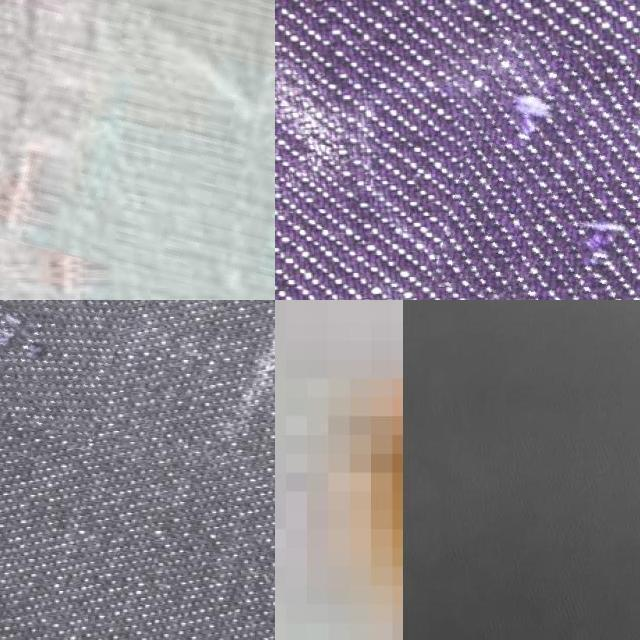Thread_other: (447, 38, 640, 300), (0, 300, 121, 433)
